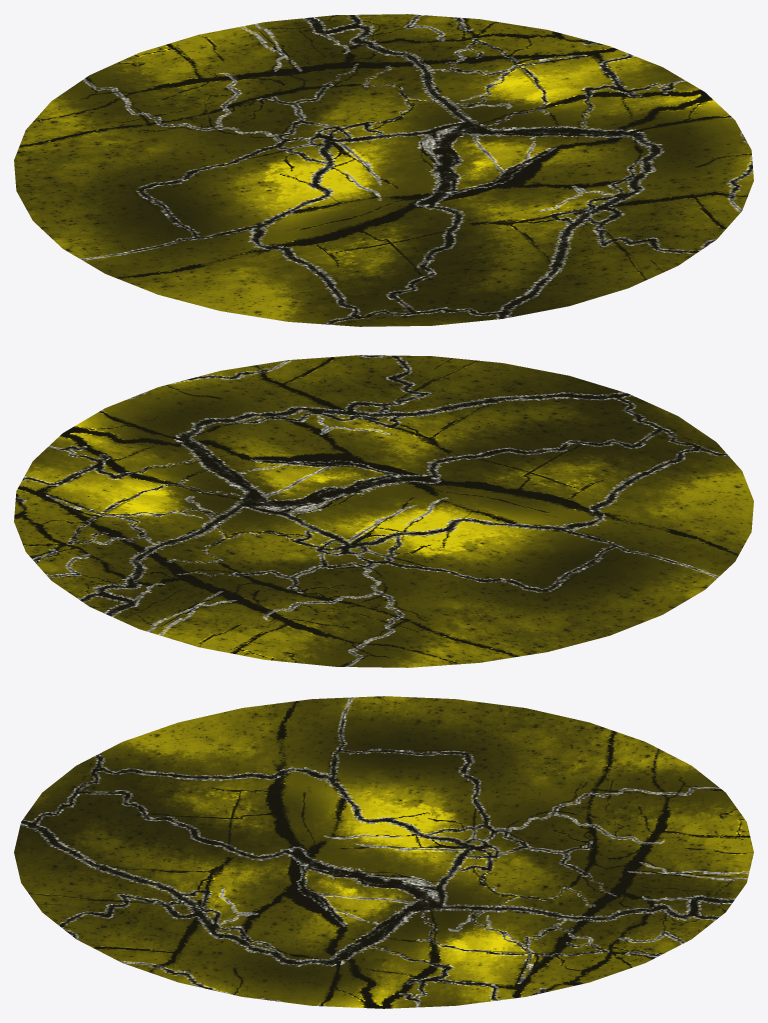
File: earthquake.obj
3 views of the same model, one above another, from view 1: azimuth 30°, elevation 25°; view 2: azimuth 150°, elevation 25°; view 3: azimuth 270°, elevation 25° (orthographic).
Visible parts, largest first — view 1: 円_円.001; view 2: 円_円.001; view 3: 円_円.001.
Part boxes in pixels (left/top/right/bottom): 円_円.001: left=14, top=14, right=753, bottom=326; 円_円.001: left=14, top=355, right=753, bottom=667; 円_円.001: left=14, top=696, right=753, bottom=1008.
Size of the model in its own units: 16 by 0 by 16.
Materials: 1 (1 with a texture image).
